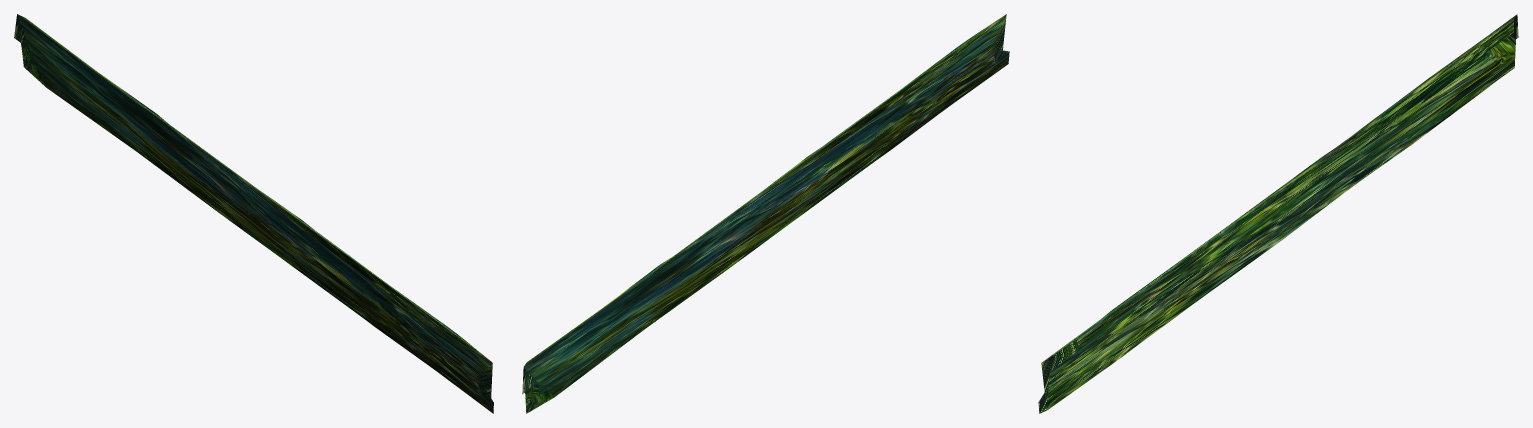
The picture shows the model from 3 angles, left to right: view 1: azimuth 30°, elevation 25°; view 2: azimuth 150°, elevation 25°; view 3: azimuth 330°, elevation 25°; orthographic projection.
Parts seen in each view (by area): view 1: algae_cube_Cube; view 2: algae_cube_Cube; view 3: algae_cube_Cube.
Part boxes in pixels (x1=…): algae_cube_Cube: x1=14, y1=14, x2=493, y2=413; algae_cube_Cube: x1=522, y1=14, x2=1009, y2=413; algae_cube_Cube: x1=1038, y1=14, x2=1518, y2=413.
Bounding box in the file's own units: 0.0113 × 0.1546 × 2.61.
